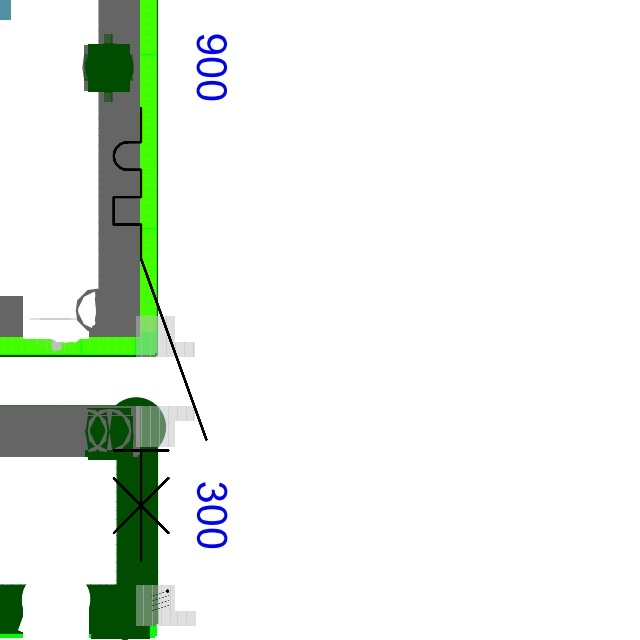interruptor_termomagnetico: (102, 96, 218, 572)
